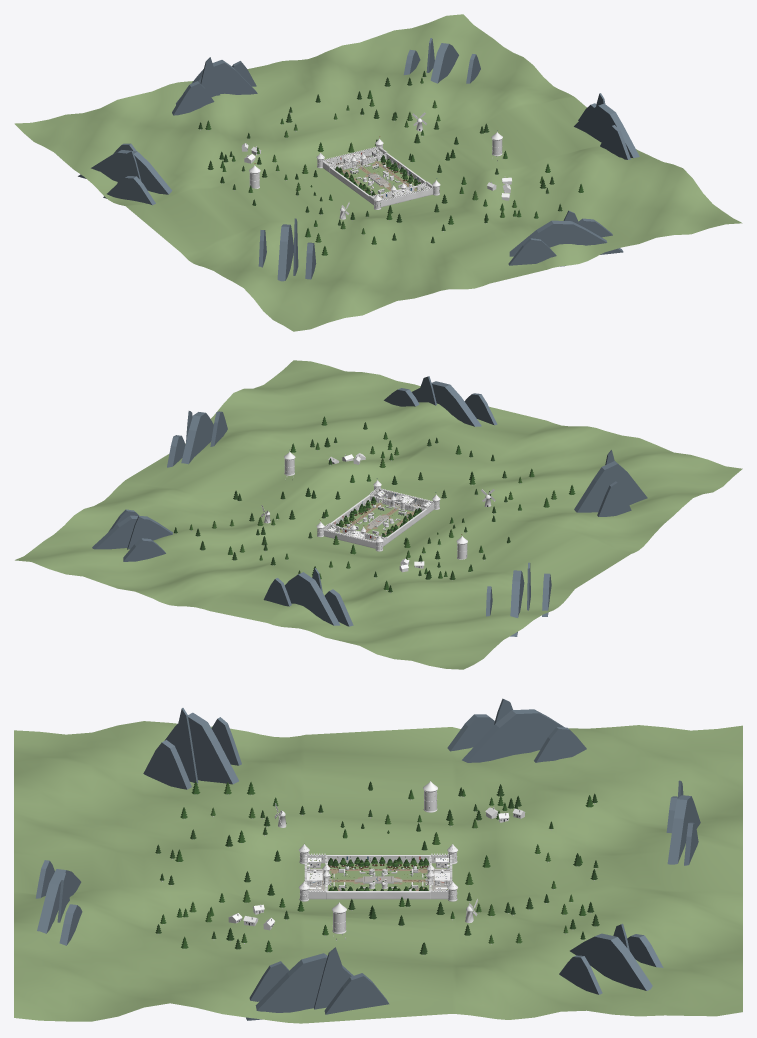
The model's file is bastion.glb.
3 views of the same model, one above another, from view 1: azimuth 30°, elevation 25°; view 2: azimuth 150°, elevation 25°; view 3: azimuth 270°, elevation 25° (orthographic). The views are drawn at different scales.
Visible parts, largest first — view 1: bastion_hill, bastion_far, bastion_pine, bastion_castle, bastion_cut, bastion_rock, bastion_grass, bastion_slates; view 2: bastion_hill, bastion_far, bastion_pine, bastion_castle, bastion_cut, bastion_rock, bastion_grass, bastion_slates; view 3: bastion_hill, bastion_far, bastion_pine, bastion_castle, bastion_rock, bastion_grass, bastion_cut, bastion_slates, bastion_plaster, bastion_shingle.
Boxes of the visible parts, bbox=[...] form: bastion_hill: bbox=[14, 14, 742, 331]; bastion_far: bbox=[78, 38, 639, 281]; bastion_pine: bbox=[198, 71, 583, 255]; bastion_castle: bbox=[246, 139, 508, 208]; bastion_cut: bbox=[249, 139, 502, 209]; bastion_rock: bbox=[329, 153, 426, 201]; bastion_grass: bbox=[342, 155, 420, 198]; bastion_slates: bbox=[249, 132, 502, 200]; bastion_hill: bbox=[15, 360, 742, 669]; bastion_far: bbox=[92, 376, 647, 636]; bastion_pine: bbox=[174, 416, 575, 592]; bastion_castle: bbox=[284, 454, 467, 565]; bastion_cut: bbox=[284, 459, 467, 559]; bastion_rock: bbox=[330, 494, 427, 542]; bastion_grass: bbox=[336, 497, 414, 540]; bastion_slates: bbox=[284, 451, 467, 543]; bastion_hill: bbox=[14, 721, 742, 1023]; bastion_far: bbox=[35, 698, 700, 1020]; bastion_pine: bbox=[155, 781, 599, 954]; bastion_castle: bbox=[237, 790, 520, 932]; bastion_rock: bbox=[307, 855, 449, 899]; bastion_grass: bbox=[307, 863, 449, 890]; bastion_cut: bbox=[299, 790, 457, 940]; bastion_slates: bbox=[299, 781, 457, 912]; bastion_plaster: bbox=[228, 812, 524, 930]; bastion_shingle: bbox=[228, 807, 525, 926].
Size of the model in its own units: 520 by 63.36 by 560.
Materials: 26 (1 with a texture image).
